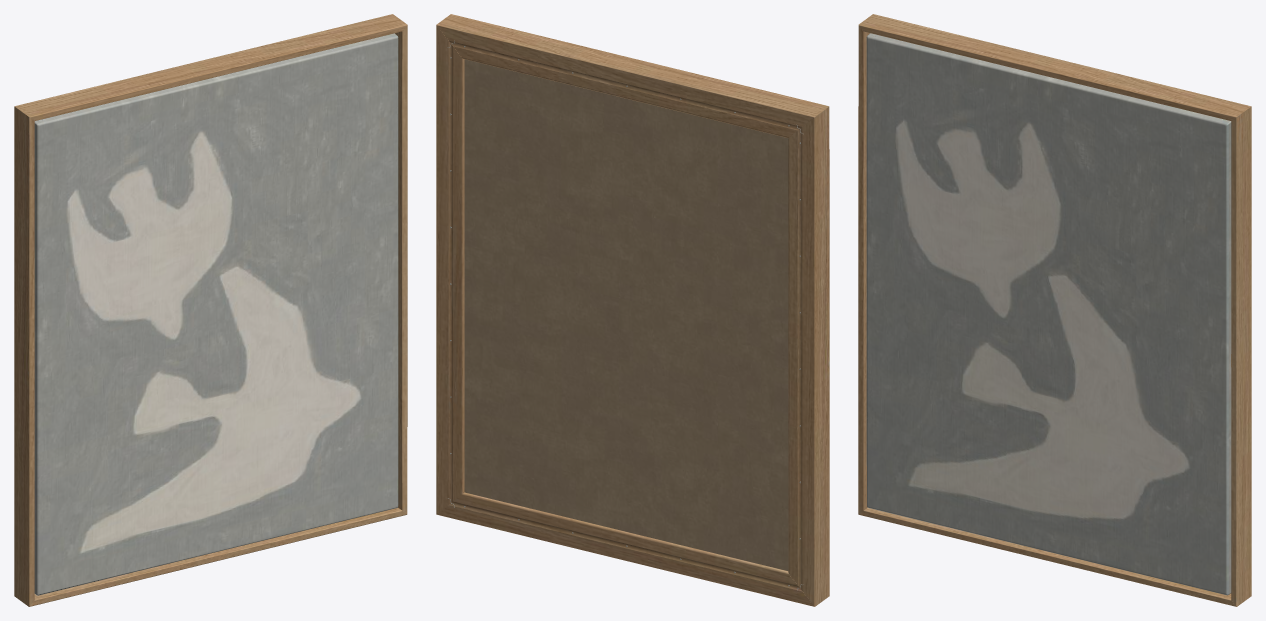
File: blodflader_obraz_00601921.glb
3 views of the same model, side by side, from view 1: azimuth 30°, elevation 25°; view 2: azimuth 150°, elevation 25°; view 3: azimuth 330°, elevation 25° (orthographic).
Parts seen in each view (by area): view 1: blodflader_obraz_00601921; view 2: blodflader_obraz_00601921; view 3: blodflader_obraz_00601921.
Boxes of the visible parts, x1=… form: blodflader_obraz_00601921: x1=14, y1=14, x2=407, y2=606; blodflader_obraz_00601921: x1=436, y1=14, x2=829, y2=606; blodflader_obraz_00601921: x1=858, y1=14, x2=1251, y2=606.
Bounding box in the file's own units: 0.4204 × 0.52 × 0.0298.
Materials: 1 (1 with a texture image).
